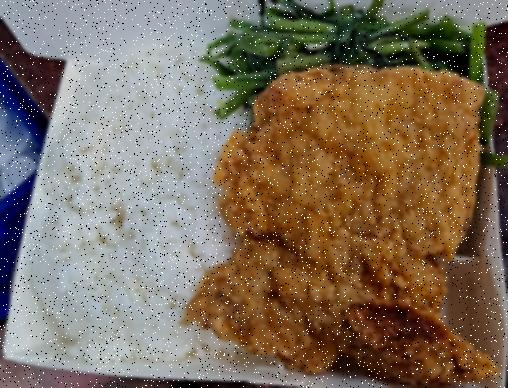big grilled chicken leg: (7, 22, 508, 388)
big herbal chicken leg: (38, 51, 223, 361)
braised fish fillet: (220, 12, 482, 76)
braised pork: (212, 60, 494, 386)
